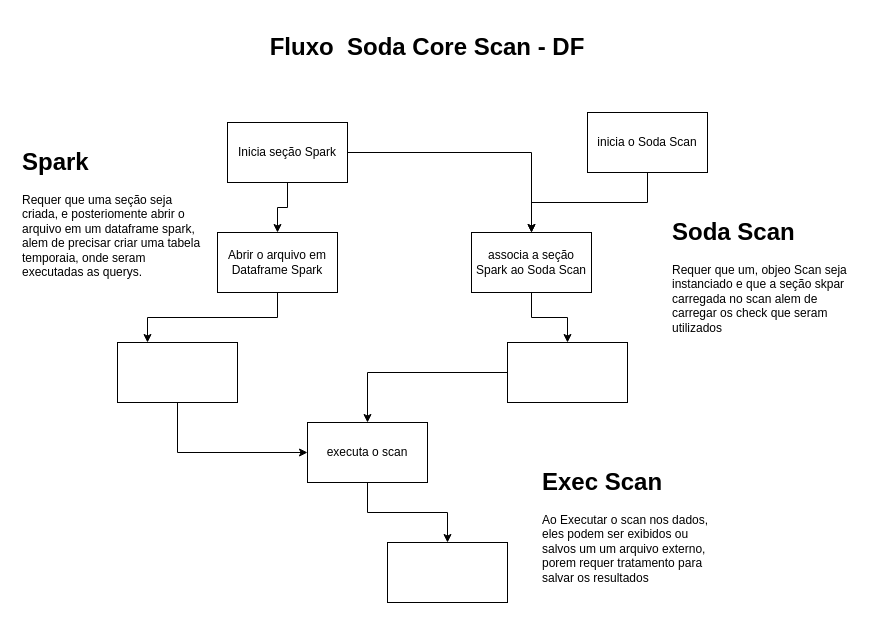
This 874x620 diagram has some shape labels left out. Here are the shapes that lost their labels. From the top down, the centre of each, then its label:
the point at 177,372: Cria uma tabela temporaria
the point at 567,372: Carrega o arquivo de checks
the point at 447,572: Salva / Exibe os resultados
